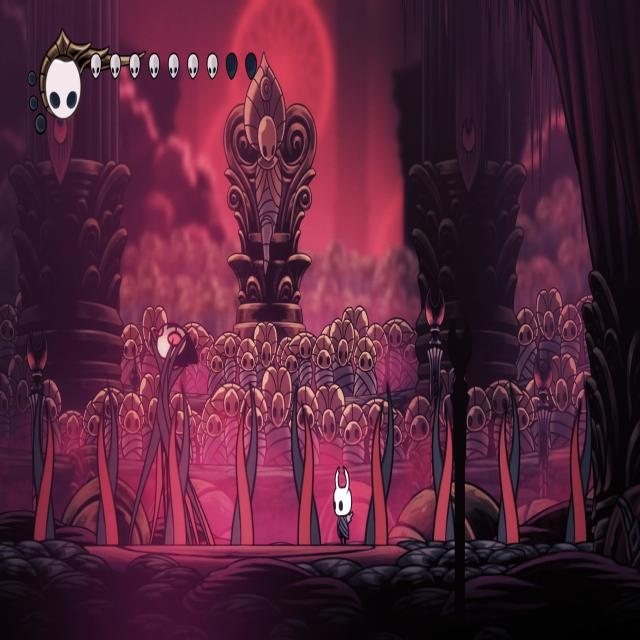Grimm: (128, 301, 216, 546)
Player: (332, 463, 358, 548)
Spikes: (290, 381, 323, 545), (364, 378, 394, 544), (230, 378, 258, 544), (565, 381, 593, 544), (164, 379, 191, 542), (94, 380, 120, 548), (31, 386, 58, 541), (496, 377, 521, 543), (431, 380, 456, 544)
